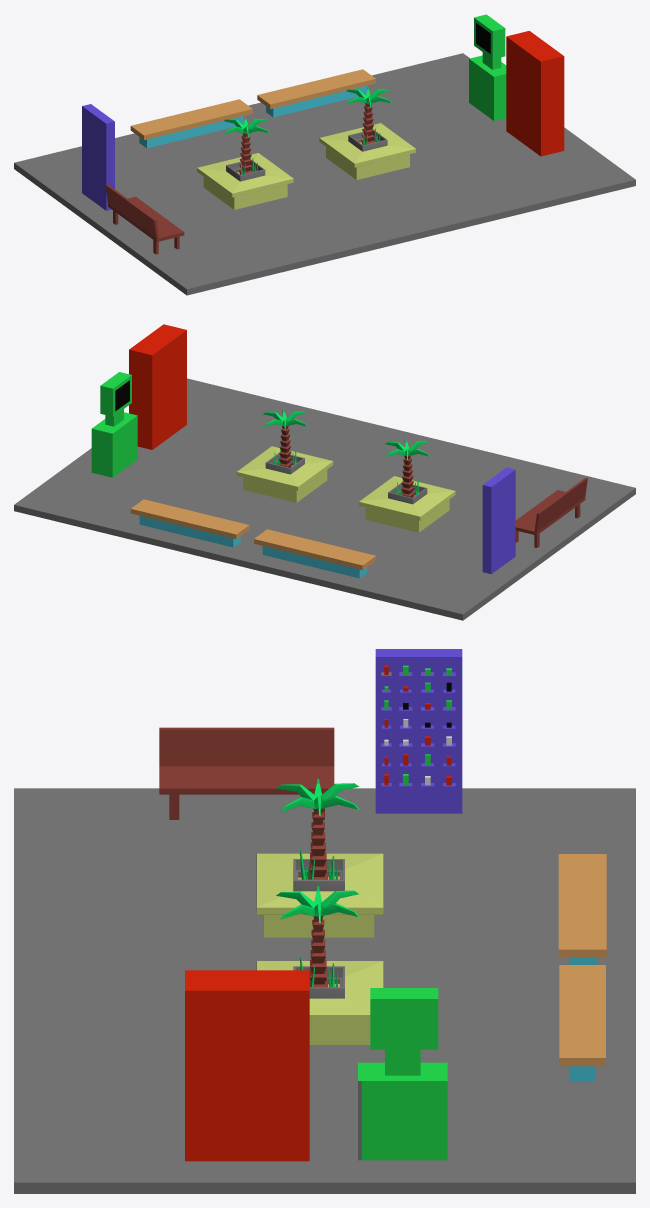
Rendered from Rest Room 1.fbx.
The picture shows the model from 3 angles, top to bottom: view 1: azimuth 30°, elevation 25°; view 2: azimuth 150°, elevation 25°; view 3: azimuth 270°, elevation 25°; orthographic projection. The views are drawn at different scales.
Visible parts, largest first — view 1: rest area, SI_Prop_ConcreteBench_01.002, SI_Prop_ConcreteBench_01.001; view 2: rest area, SI_Prop_ConcreteBench_01.001, SI_Prop_ConcreteBench_01.002; view 3: rest area, SI_Prop_ConcreteBench_01.002, SI_Prop_ConcreteBench_01.001.
Part boxes in pixels (x1,y1,x2,y2): rest area: [14, 14, 635, 295]; SI_Prop_ConcreteBench_01.002: [197, 116, 293, 209]; SI_Prop_ConcreteBench_01.001: [319, 87, 415, 179]; rest area: [14, 324, 635, 620]; SI_Prop_ConcreteBench_01.001: [236, 409, 333, 502]; SI_Prop_ConcreteBench_01.002: [359, 439, 455, 532]; rest area: [14, 649, 635, 1193]; SI_Prop_ConcreteBench_01.002: [256, 778, 383, 937]; SI_Prop_ConcreteBench_01.001: [256, 886, 383, 1044].
Bounding box in the file's own units: 1500 × 322 × 1000.
